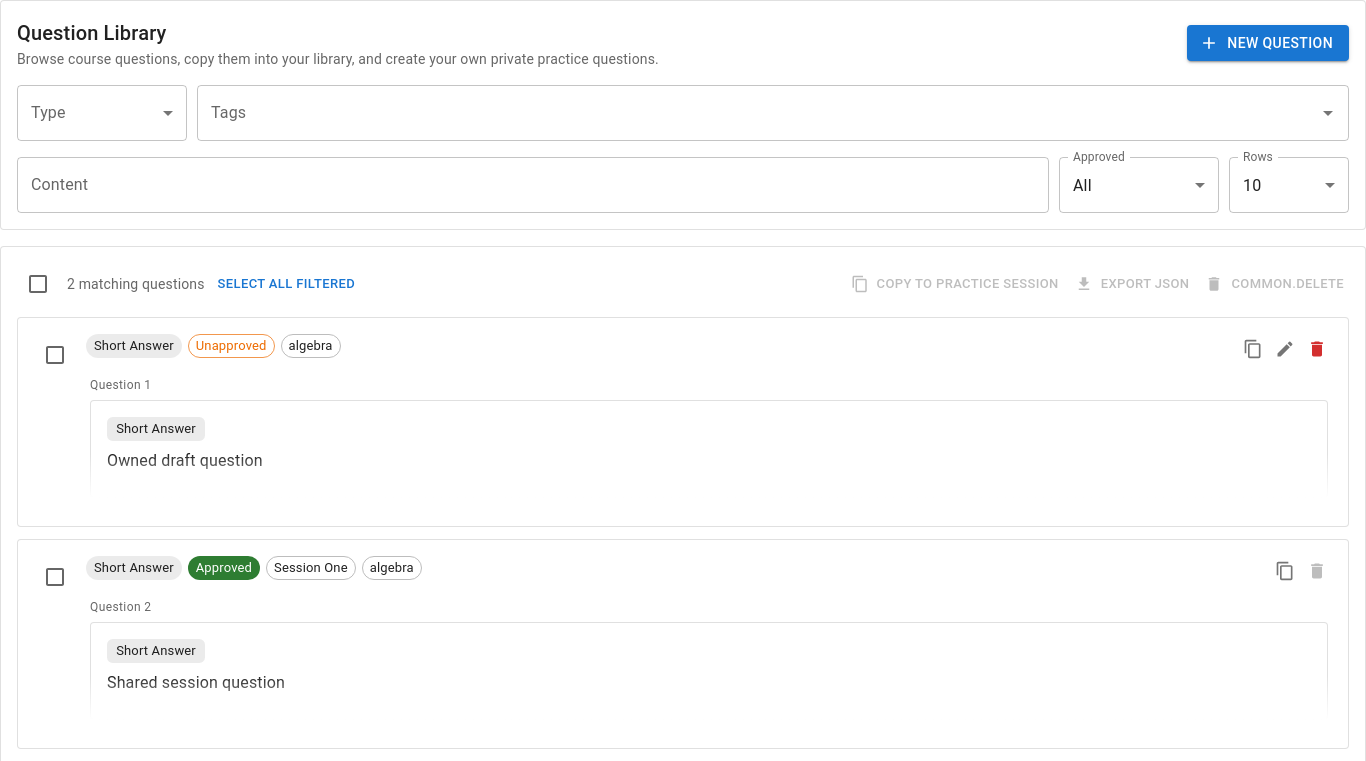
Test case: QuestionLibraryPanel › shows student edit and copy controls for manageable owned questions and disables mixed delete selections
The image size is (1366, 761).
Check: the text "Owned draft question" is shown, box [107, 451, 263, 470]
Check: the text "Shared session question" is shown, box [107, 673, 285, 692]
Click the 2nd checkbox. click: (55, 355)
box: [43, 343, 67, 367]
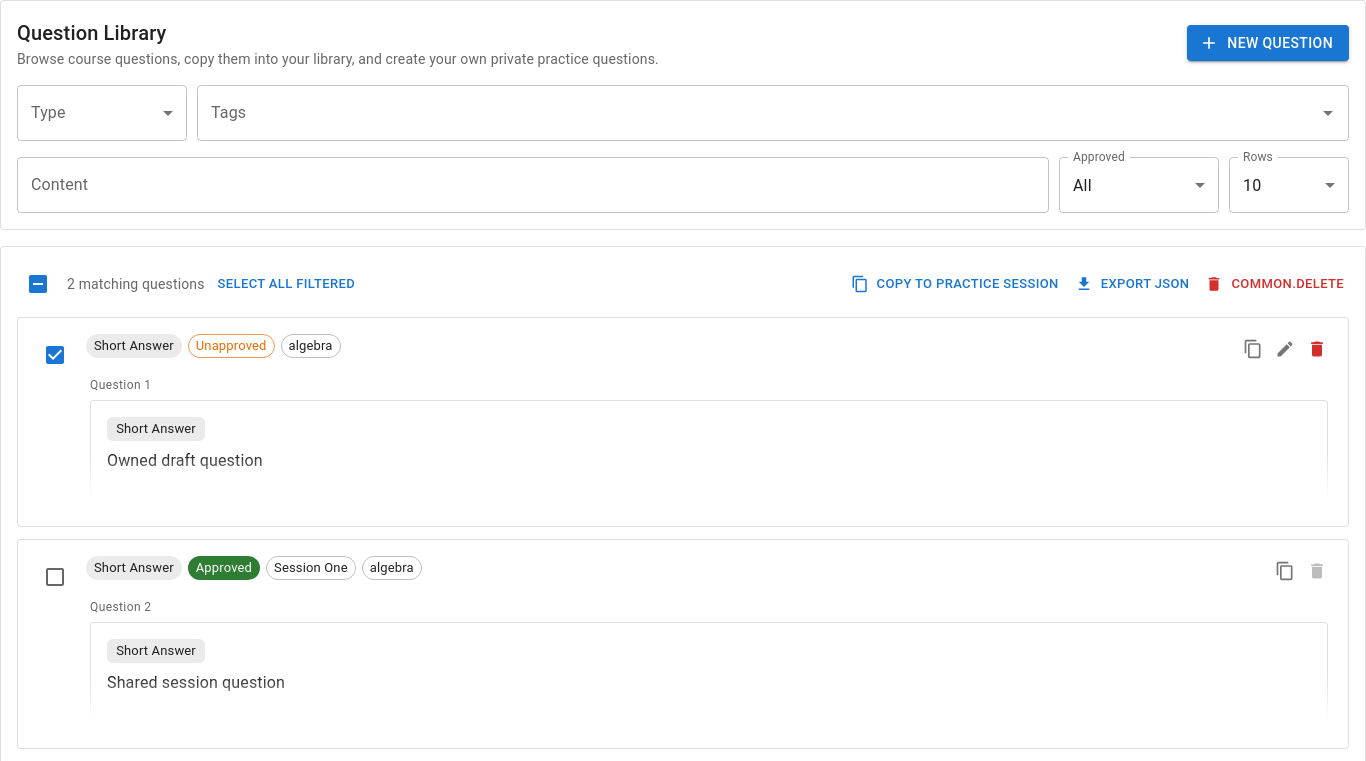
Check: the button "common.delete" is enabled, box [1202, 269, 1349, 299]
Click the 3rd checkbox. click: (55, 577)
box: [43, 565, 67, 589]
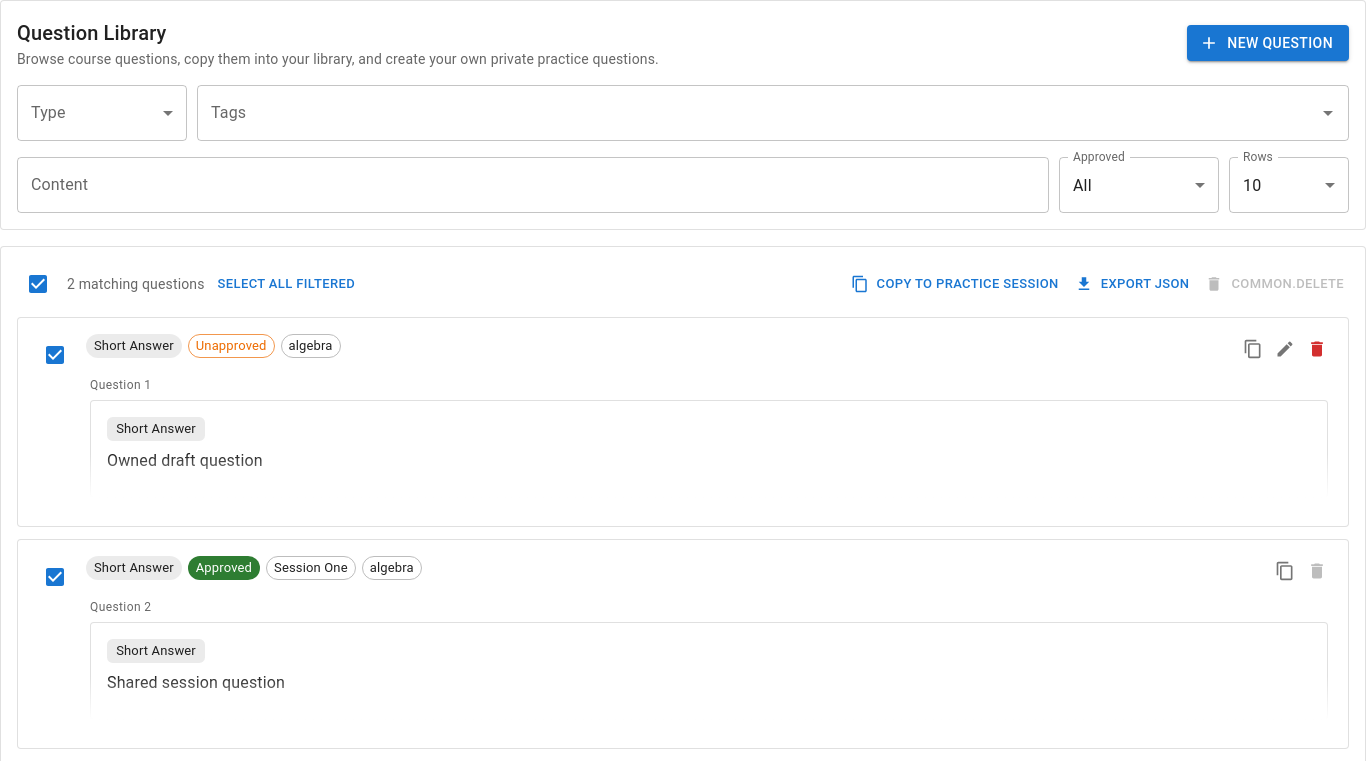
Check: the button "common.delete" is disabled, box [1202, 269, 1349, 299]
